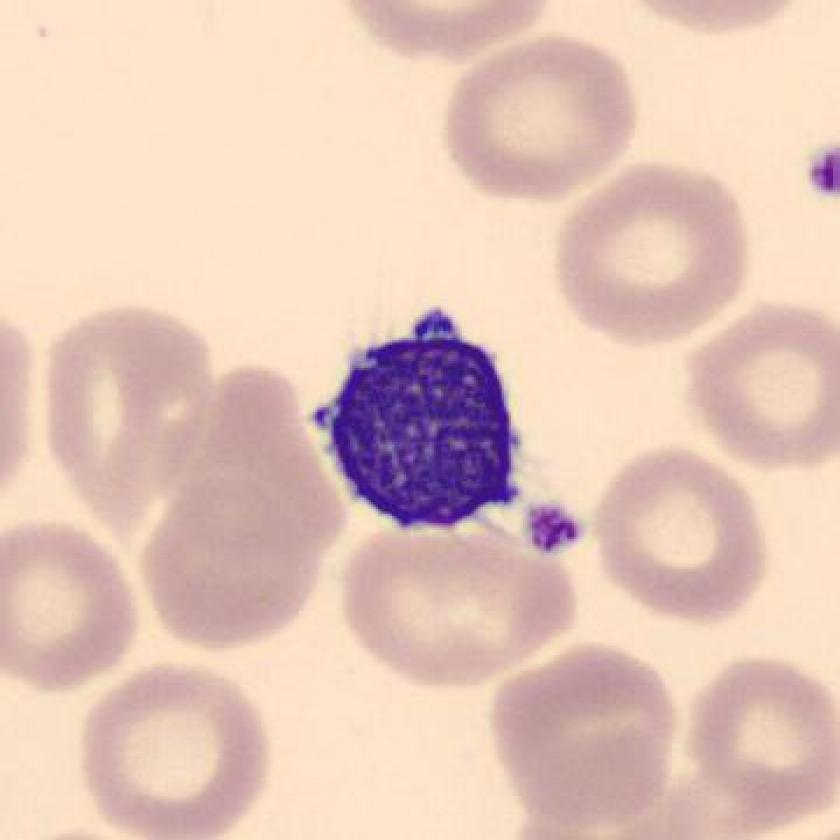lymphocyte: (302, 290, 542, 547)
